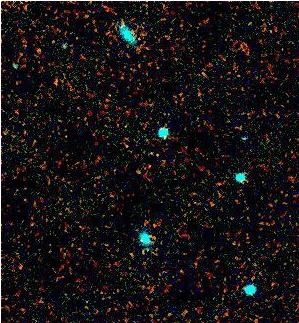star: (151, 141, 181, 171)
